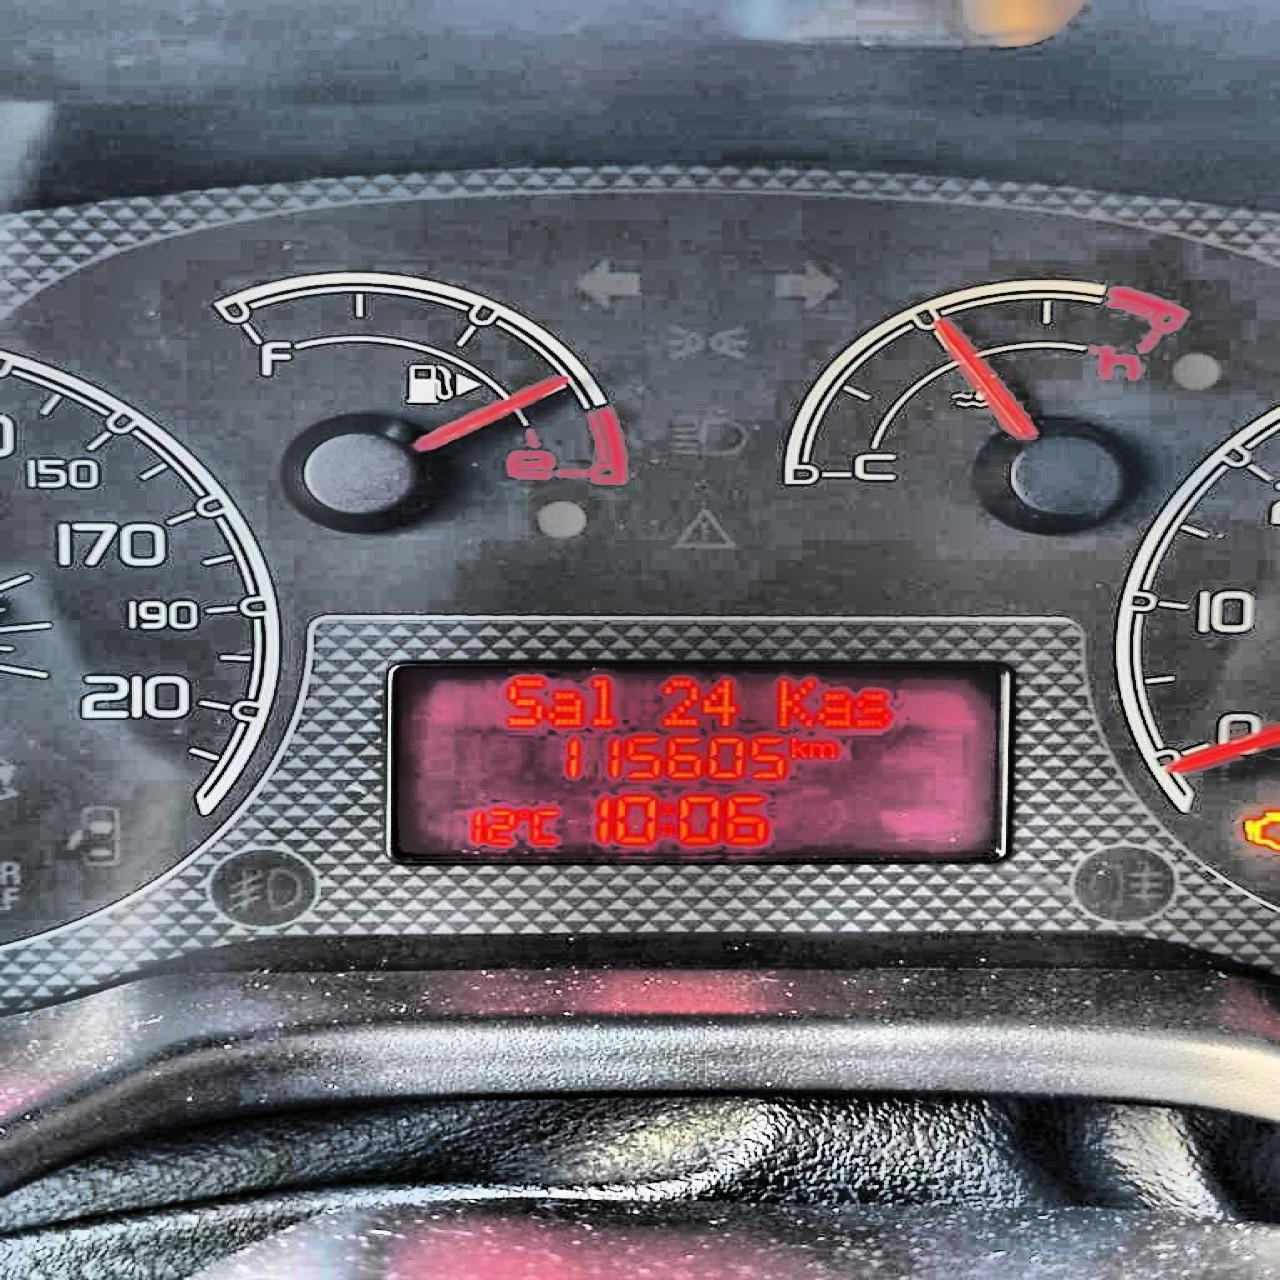0: (613, 794, 659, 845), (675, 792, 720, 844), (704, 734, 745, 778)
1: (593, 795, 610, 843), (605, 736, 621, 777), (564, 736, 580, 777), (471, 809, 483, 844)
2: (659, 676, 699, 726), (483, 808, 516, 844)
4: (700, 676, 738, 726)
5: (747, 735, 785, 779), (625, 735, 662, 777)
6: (722, 794, 767, 844), (665, 735, 702, 779)
X: (503, 675, 546, 727), (776, 678, 816, 728), (852, 690, 891, 728), (546, 689, 584, 727), (816, 690, 852, 728), (587, 676, 613, 726), (529, 809, 560, 844), (805, 740, 836, 760), (659, 801, 674, 835), (787, 736, 805, 758)
odometer: (383, 658, 1012, 865)
